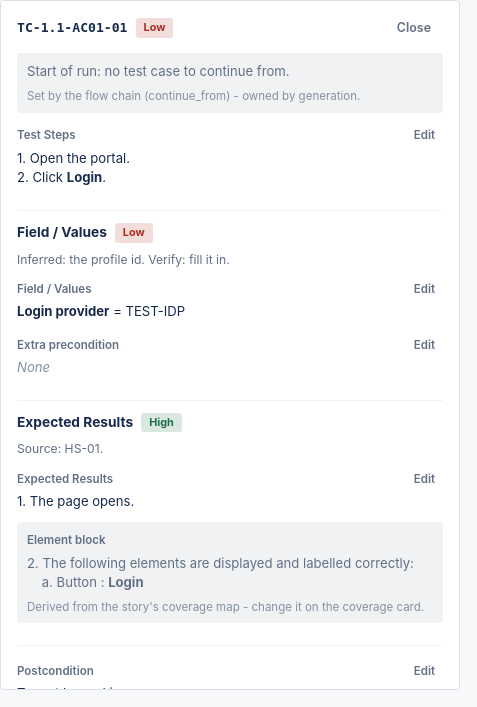
Test: ReviewPanel › names no level it does not know: a confirmed part without an authored level
(page scrolled)
Click the button with aria-label "Edit Extra precondition" at (424, 345), box [406,335,443,355]
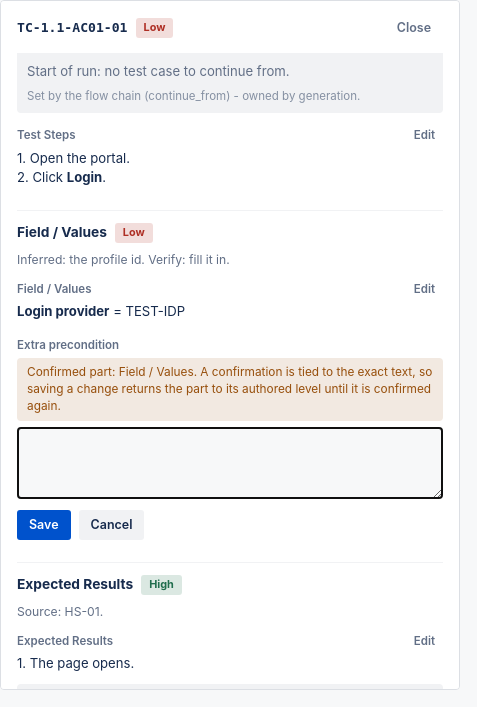
Result: the text "Confirmed part: Field / Values. A confirmation" is shown at [27,365,432,413]
